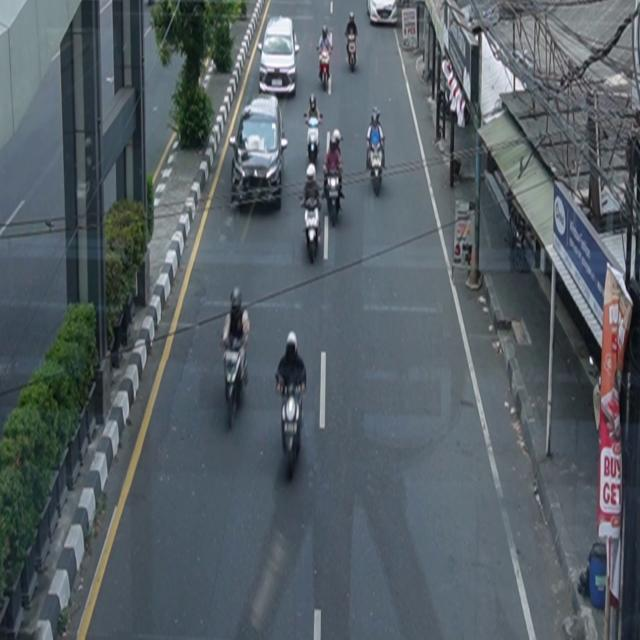car: (230, 95, 289, 210), (258, 16, 301, 99)
